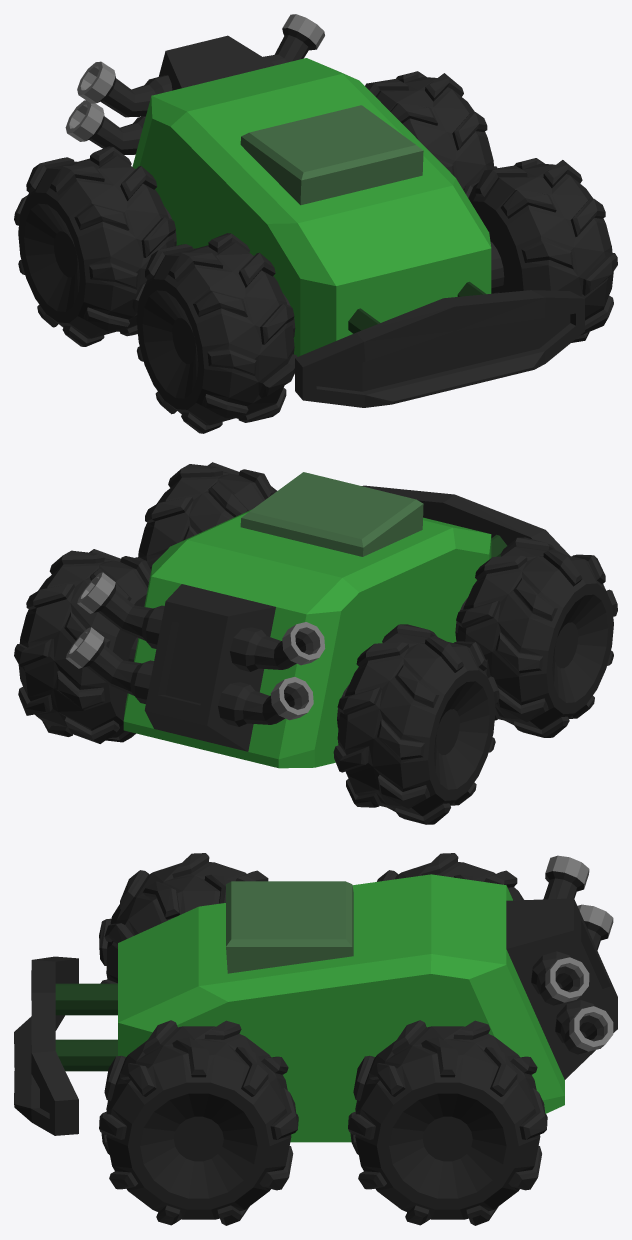
Rendered from 4-wheels_base.fbx.
3 views of the same model, one above another, from view 1: azimuth 30°, elevation 25°; view 2: azimuth 150°, elevation 25°; view 3: azimuth 270°, elevation 25° (orthographic). The views are drawn at different scales.
Visible parts, largest first — view 1: Cube.083, Cylinder.062, Cylinder.060, Plane.002, Plane.003, Plane.004; view 2: Cube.083, Cylinder.060, Cylinder.062, Plane.004, Plane.003, Plane.002; view 3: Cube.083, Cylinder.062, Cylinder.060, Plane.002, Plane.003, Plane.004.
Part boxes in pixels (x1,y1,x2,y2): Cube.083: (132,35,491,356); Cylinder.062: (132,158,617,433); Cylinder.060: (14,71,497,346); Plane.002: (295,290,584,407); Plane.003: (77,14,324,117); Plane.004: (65,100,145,154); Cube.083: (123,472,507,768); Cylinder.060: (14,549,499,824); Cylinder.062: (135,462,617,737); Plane.004: (65,627,313,726); Plane.003: (77,572,325,671); Plane.002: (362,485,569,555); Cube.083: (55,874,617,1142); Cylinder.062: (99,853,298,1225); Cylinder.060: (348,853,547,1225); Plane.002: (14,956,78,1135); Plane.003: (531,855,589,1005); Plane.004: (555,904,613,1054).
Size of the model in its own units: 184 by 91.5 by 223.
